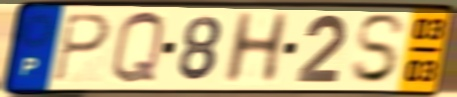2: (293, 12, 351, 87)
8: (177, 14, 224, 83)
H: (219, 11, 293, 88)
P: (51, 11, 113, 85)
Q: (108, 9, 168, 88)
S: (348, 12, 409, 87)
